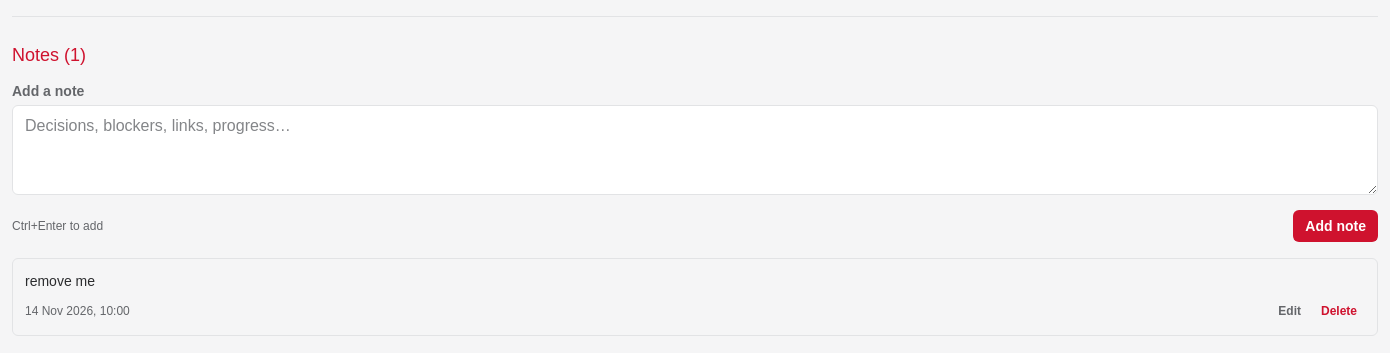
it: NotesSection › asks before deleting a note
This screenshot has width=1390, height=353.
Click the button "Delete": (1339, 311) [1313, 299, 1365, 323]
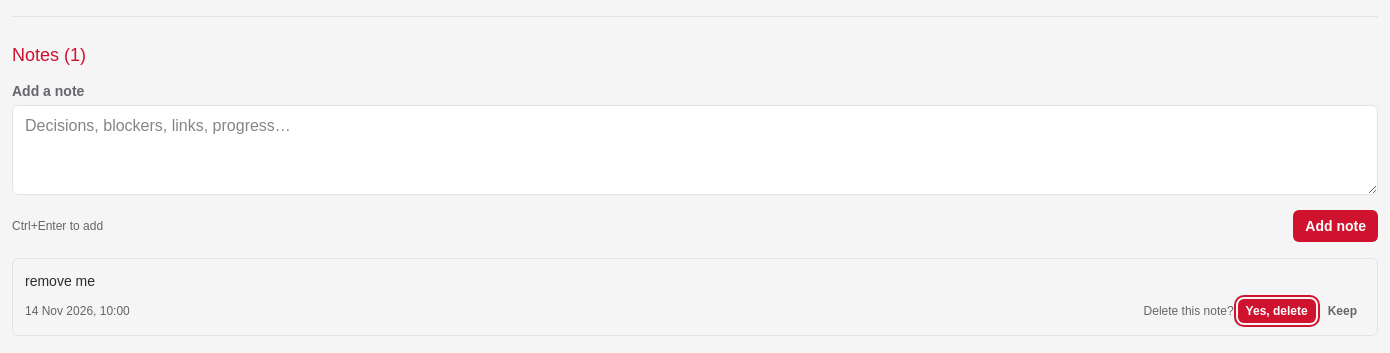
Click the button "Keep": (1342, 311) [1320, 299, 1365, 323]
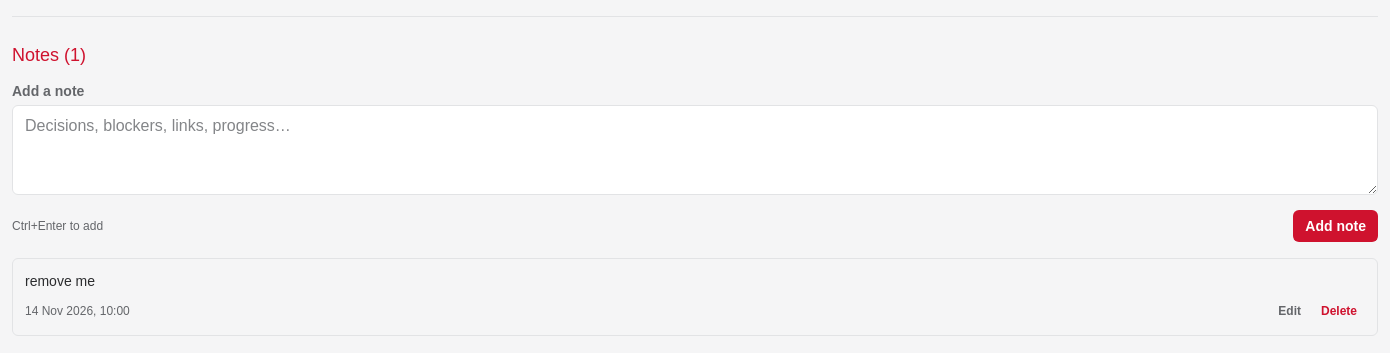
Click the button "Delete": (1339, 311) [1313, 299, 1365, 323]
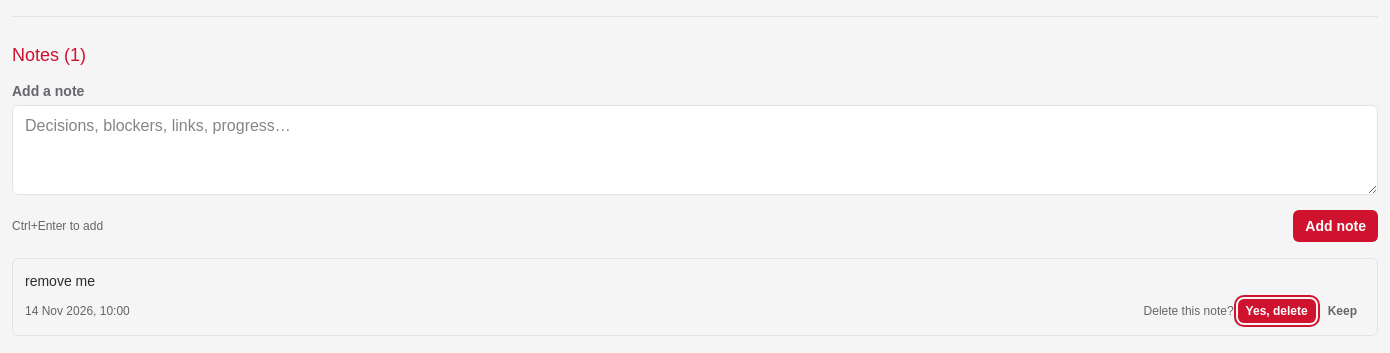
Click the button "Yes, delete": (1277, 311) [1238, 299, 1316, 323]
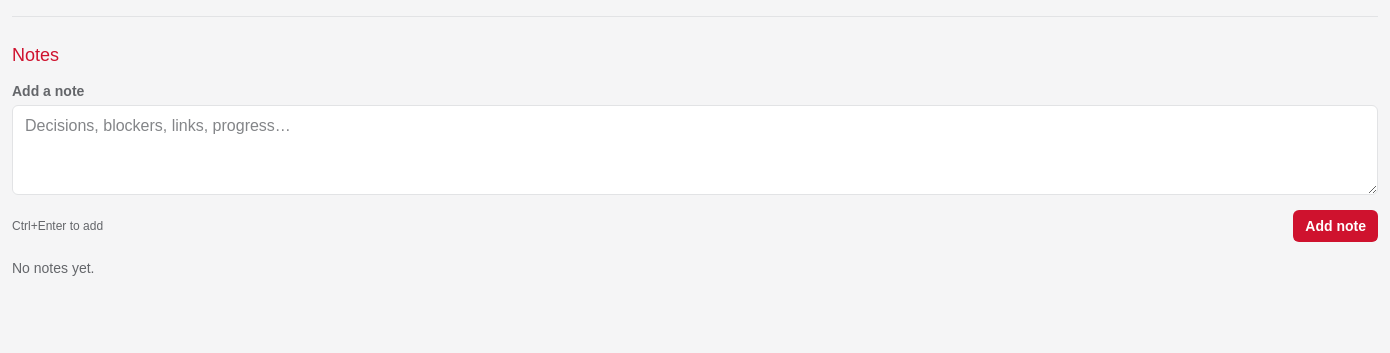
Check: the text "No notes yet." is shown, box [12, 260, 94, 276]
